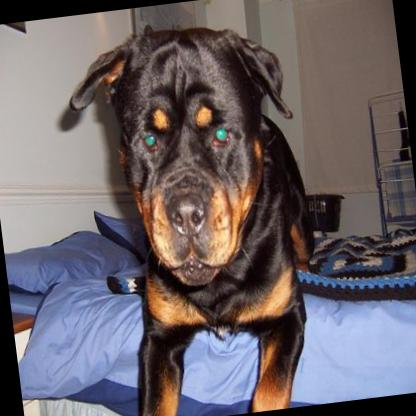Rottweiler: (60, 5, 335, 416)
